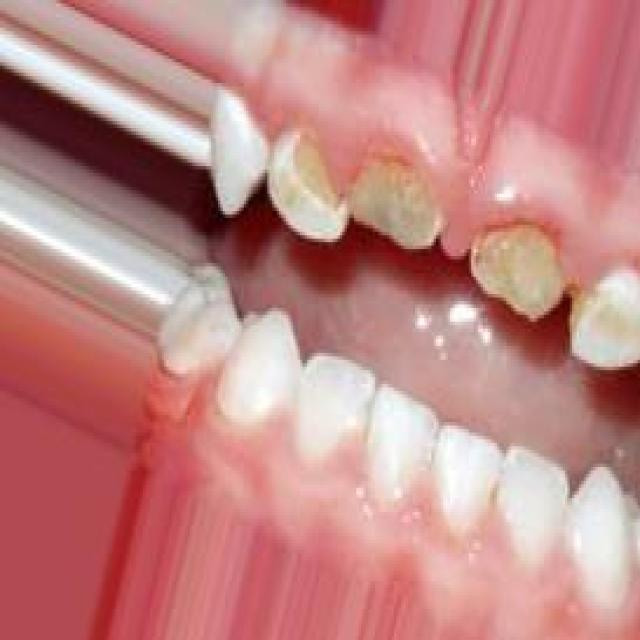caries: (464, 216, 566, 331), (345, 149, 444, 263), (568, 267, 640, 359), (283, 128, 344, 225)
